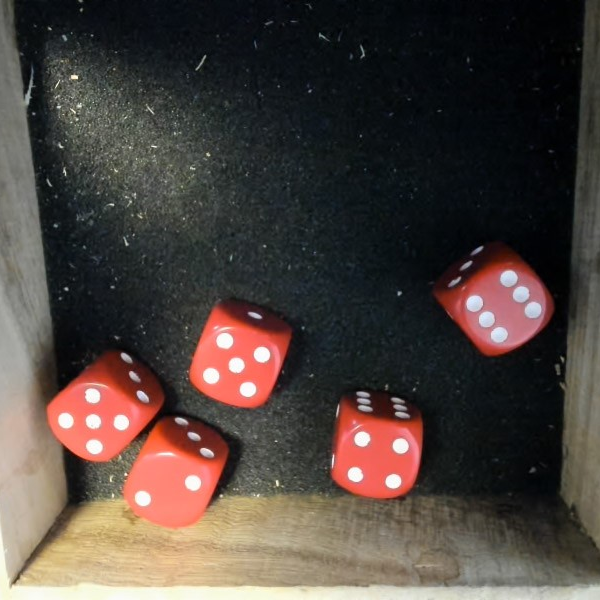red_die_pip2: (116, 406, 239, 541)
red_die_pip4: (321, 383, 432, 508)
red_die_pip5: (32, 339, 175, 482), (182, 289, 303, 418)
red_die_pip6: (425, 229, 562, 367)
